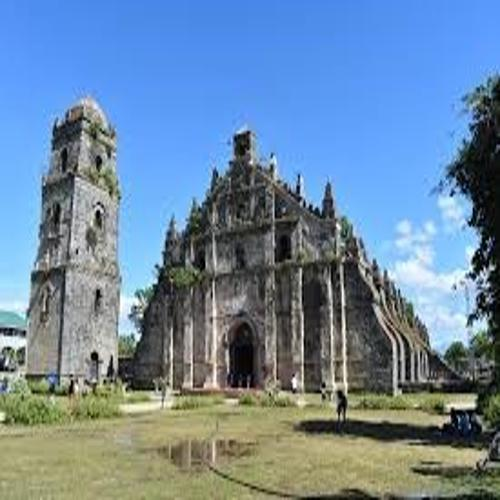Paoay Church: (17, 83, 445, 414)
